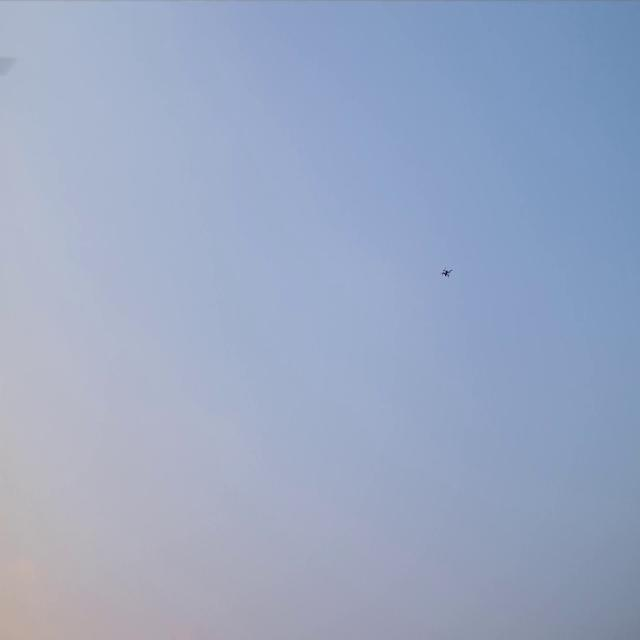UAV: (440, 265, 453, 279)
